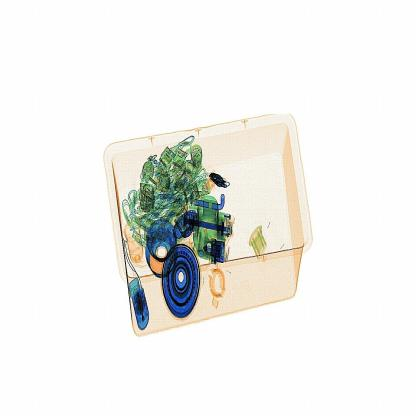scissors: (210, 168, 232, 192)
